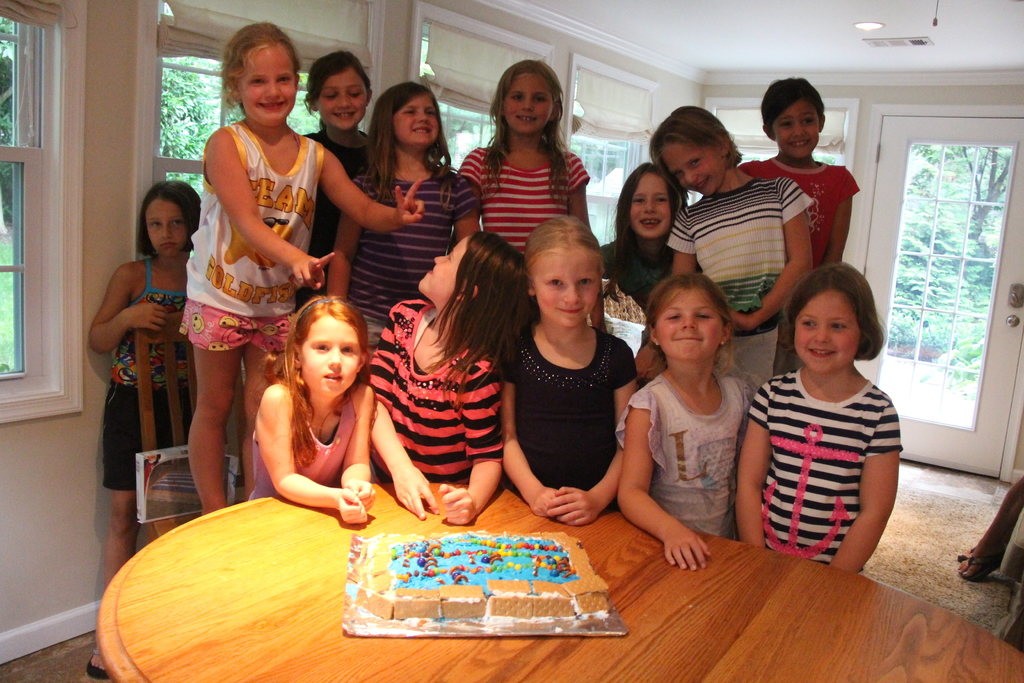cake: (346, 528, 618, 623)
